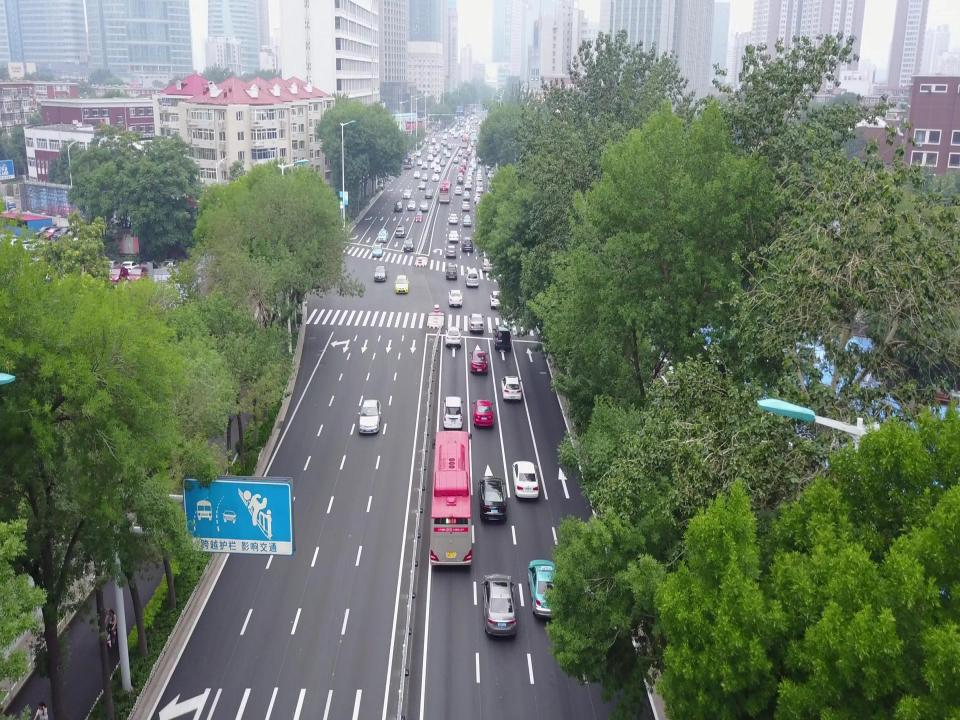bus: (430, 429, 472, 570), (438, 180, 452, 203), (403, 154, 415, 170)
car: (480, 572, 518, 636), (527, 558, 567, 617), (478, 475, 508, 525), (512, 460, 540, 499), (358, 398, 381, 434), (442, 394, 464, 428), (472, 397, 494, 430), (500, 375, 522, 401), (493, 324, 512, 352), (469, 349, 489, 374), (105, 265, 129, 285), (445, 325, 463, 348), (33, 224, 59, 239), (126, 265, 148, 282), (489, 290, 507, 309), (468, 313, 484, 333), (160, 258, 178, 275), (394, 274, 409, 294), (102, 260, 122, 275), (448, 289, 464, 307), (43, 227, 63, 241), (53, 226, 73, 239), (120, 261, 140, 274), (374, 265, 388, 282), (481, 257, 495, 273), (445, 263, 458, 280), (140, 260, 158, 272), (403, 237, 415, 253), (461, 236, 473, 252), (371, 242, 383, 257), (377, 228, 389, 243), (445, 245, 457, 258), (395, 224, 406, 238), (394, 198, 404, 212), (448, 230, 458, 243), (462, 214, 472, 227), (407, 199, 417, 211), (419, 200, 429, 212), (449, 212, 458, 224), (415, 210, 423, 223), (402, 188, 412, 198), (377, 178, 385, 190), (424, 188, 433, 198), (462, 200, 470, 210), (464, 180, 472, 190), (474, 193, 482, 203), (463, 190, 470, 201), (454, 186, 462, 195), (418, 181, 426, 190), (476, 184, 484, 193), (433, 164, 441, 172), (484, 166, 492, 174), (432, 173, 439, 181), (414, 150, 422, 157), (474, 189, 482, 196), (414, 170, 420, 179), (476, 178, 483, 185), (416, 158, 422, 166), (422, 162, 428, 170), (430, 160, 436, 168), (422, 173, 428, 181), (427, 153, 433, 161), (432, 149, 438, 157), (476, 173, 482, 181), (458, 166, 464, 174), (457, 172, 463, 180), (457, 176, 463, 184), (439, 159, 445, 166), (434, 156, 440, 163), (445, 151, 451, 158), (466, 176, 472, 183), (488, 171, 494, 178), (468, 167, 474, 174), (472, 163, 478, 170), (463, 153, 469, 160), (460, 162, 466, 169), (457, 149, 463, 156), (453, 156, 459, 162), (476, 169, 482, 175), (466, 172, 472, 178), (470, 157, 476, 163), (462, 158, 467, 165), (469, 161, 475, 166), (470, 153, 476, 158), (437, 153, 441, 160)
van: (464, 268, 480, 288)
